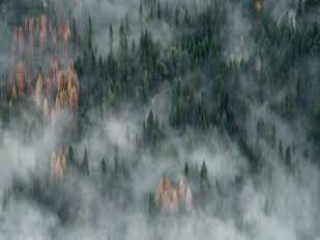smoke: (82, 105, 162, 171), (177, 136, 254, 194)
